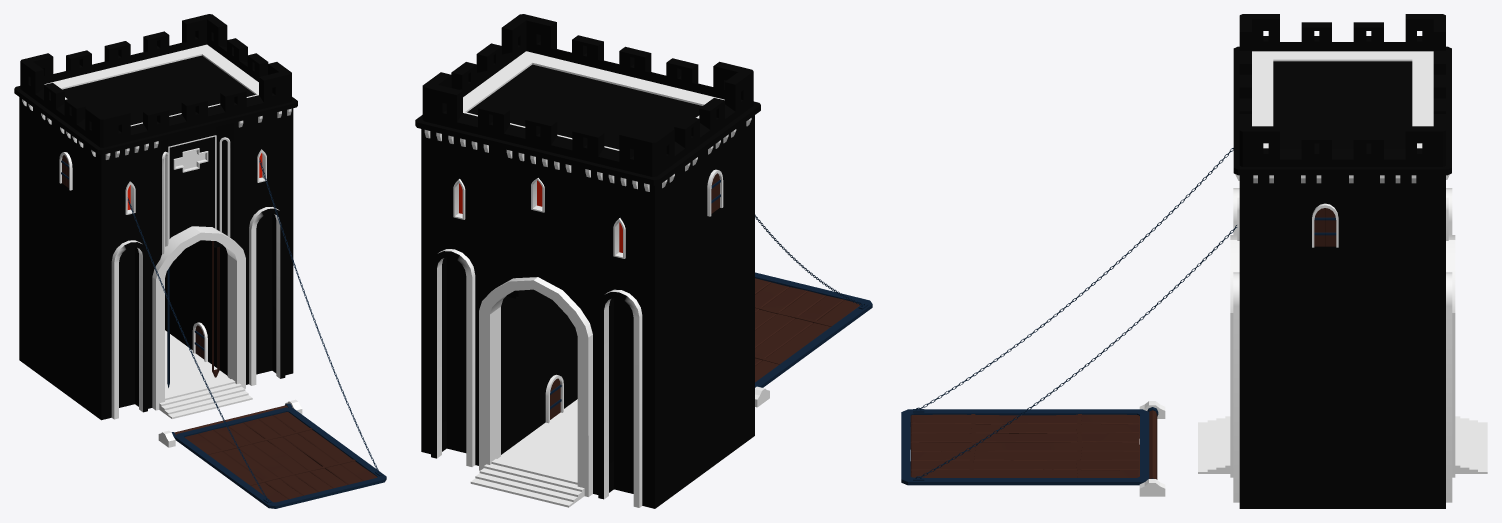
The model's file is Tower.fbx.
3 renders of one model, left to right at view 1: azimuth 30°, elevation 25°; view 2: azimuth 150°, elevation 25°; view 3: azimuth 270°, elevation 25°, orthographic. The views are drawn at different scales.
Parts seen in each view (by area): view 1: castle_gate_a; view 2: castle_gate_a; view 3: castle_gate_a.
Boxes of the visible parts, <box> form: castle_gate_a: <box>14,14,386,508</box>; castle_gate_a: <box>415,14,872,508</box>; castle_gate_a: <box>901,14,1487,508</box>.
Size of the model in its own units: 1803 by 2624 by 3636.
